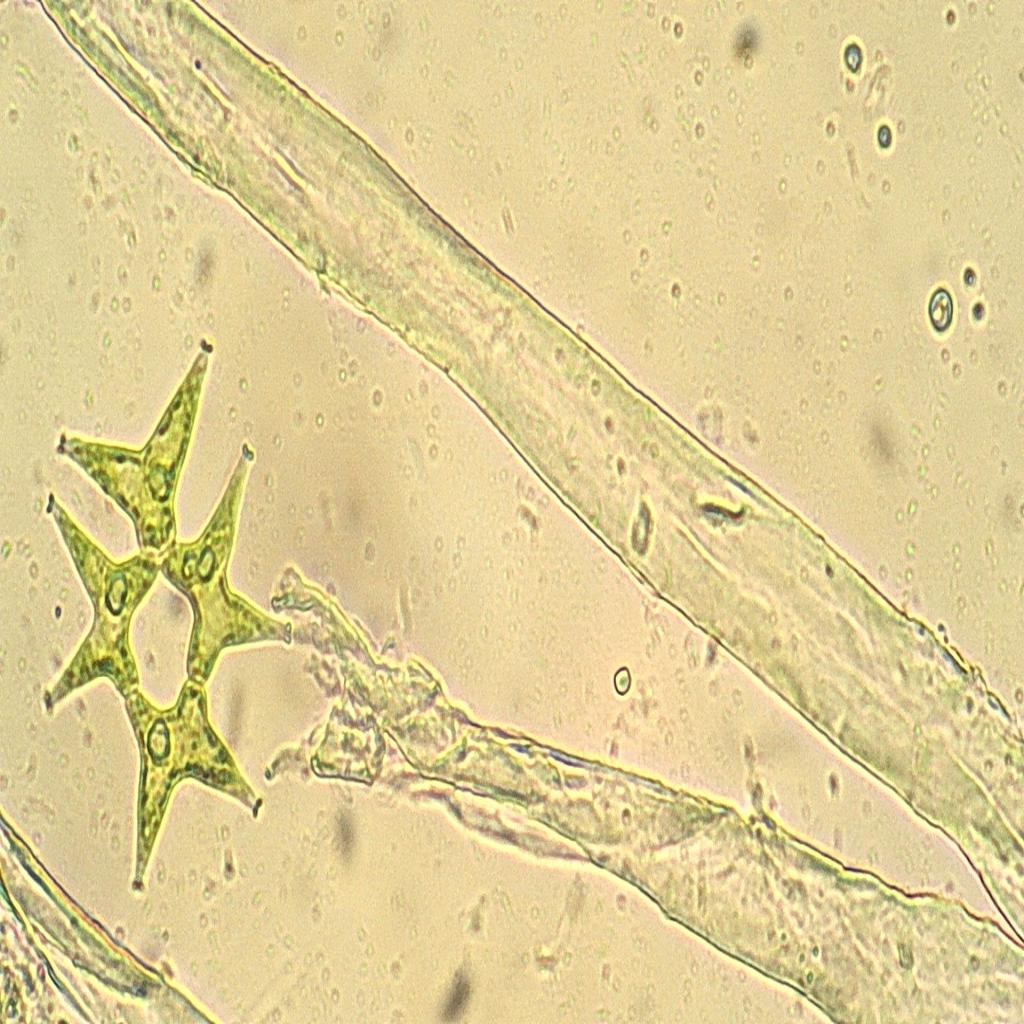Pediastrum_CT: (34, 324, 304, 922)
